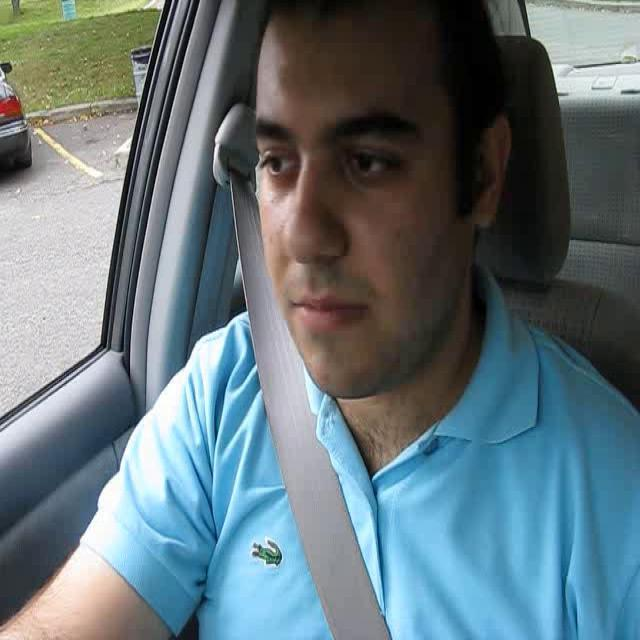open: (327, 101, 426, 198), (248, 108, 304, 195)
